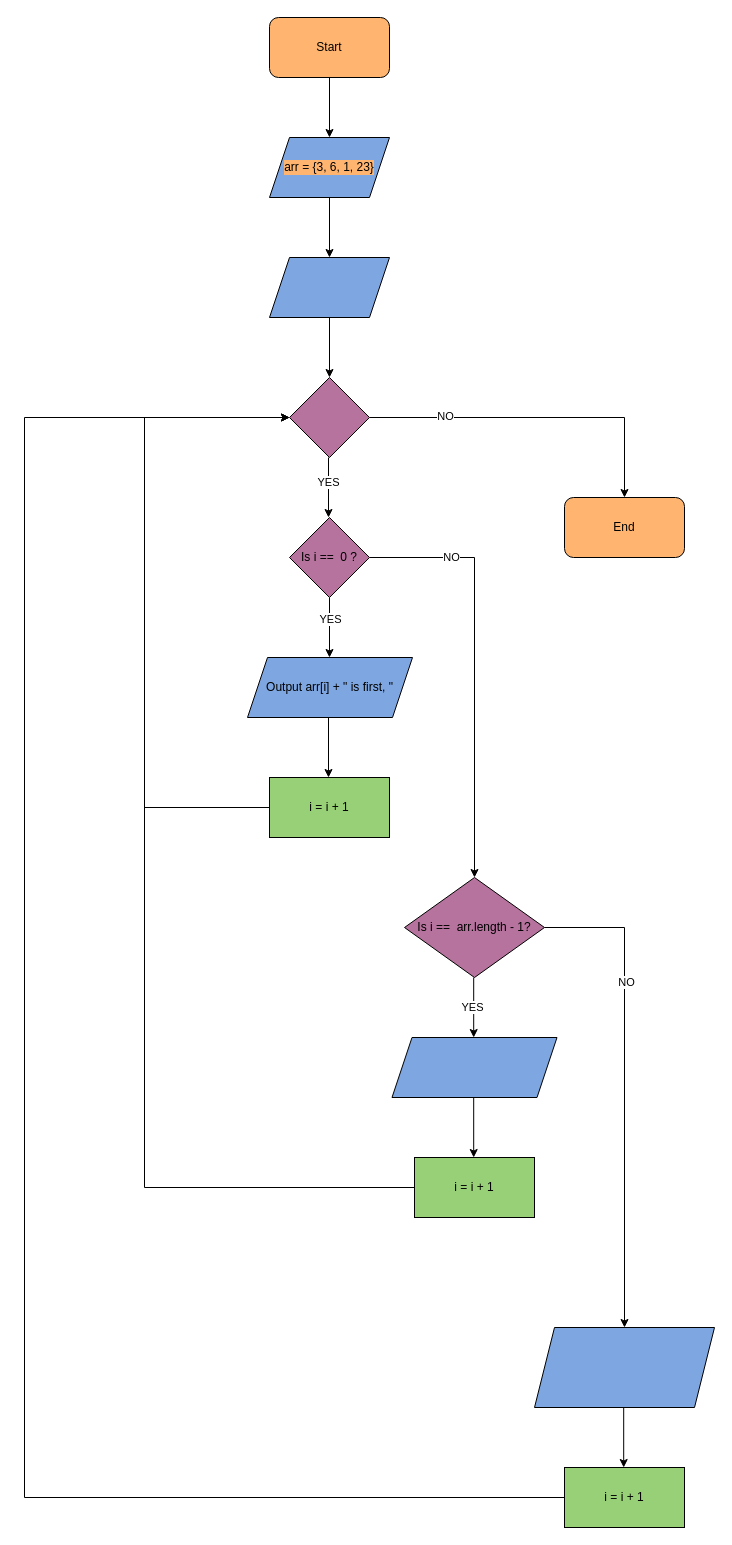
Some shapes in this 732 by 1545 pixel diagram are drawn without their labels. Here are the shapes that lost their labels. From the top down, the box of each, then its label:
(268, 256, 390, 318): i = 0
(288, 376, 370, 458): Is i < arr.length
(391, 1036, 557, 1098): Output arr[i] + " is last"
(534, 1326, 714, 1408): Output arr[i] + " is after " + arr[i-1] + " and below " + arr[i+1] + ", "
